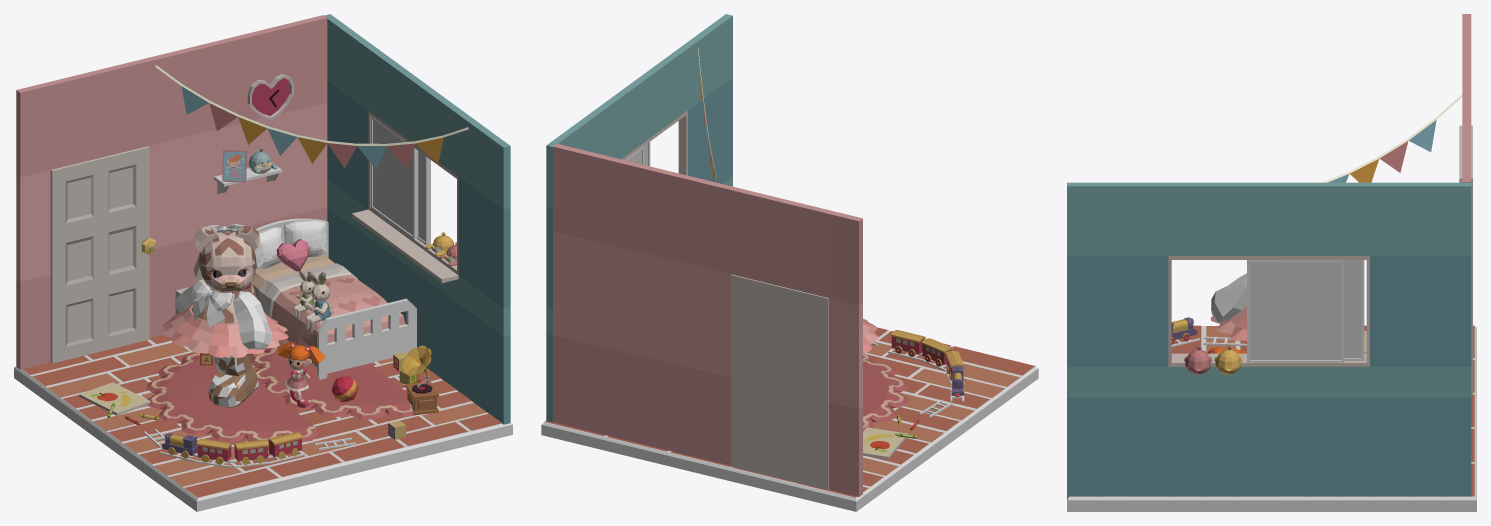
Rendered from 0009_toyStory.fbx.
3 views of the same model, side by side, from view 1: azimuth 30°, elevation 25°; view 2: azimuth 150°, elevation 25°; view 3: azimuth 270°, elevation 25° (orthographic). The views are drawn at different scales.
Parts seen in each view (by area): view 1: wall, wall2, door, plateUp, rug (×2), plateBase, frame (×4), bed_main, body (×2), garand, glass (×2), skirt (+15 smaller); view 2: wall, door, wall2, plateBase, plateUp, rug, drawing, Toybox_sub_Red; view 3: wall2, glass (×2), plateBase, plateUp, frame (×2), garand, wall, leftArm, door, skirt, Penguin2, Penguin3.
Part boxes in pixels (bbox=[...]): wall: bbox=[16, 15, 327, 369]; wall2: bbox=[324, 14, 510, 424]; door: bbox=[50, 146, 155, 363]; plateUp: bbox=[22, 335, 501, 497]; rug (×2): bbox=[146, 341, 415, 443]; plateBase: bbox=[14, 339, 512, 511]; frame (×4): bbox=[222, 116, 430, 379]; bed_main: bbox=[252, 255, 405, 368]; body (×2): bbox=[191, 226, 259, 363]; garand: bbox=[155, 65, 468, 169]; glass (×2): bbox=[373, 120, 424, 241]; skirt: bbox=[162, 303, 288, 357]; wall: bbox=[553, 144, 862, 496]; door: bbox=[731, 274, 828, 490]; wall2: bbox=[546, 14, 732, 422]; plateBase: bbox=[541, 330, 1038, 511]; plateUp: bbox=[544, 327, 1034, 497]; rug: bbox=[863, 353, 909, 431]; drawing: bbox=[863, 427, 907, 459]; Toybox_sub_Red: bbox=[890, 330, 925, 354]; wall2: bbox=[1067, 182, 1471, 496]; glass (×2): bbox=[1249, 260, 1361, 359]; plateBase: bbox=[1067, 326, 1476, 511]; plateUp: bbox=[1070, 325, 1474, 496]; frame (×2): bbox=[1247, 260, 1364, 362]; garand: bbox=[1322, 94, 1462, 182]; wall: bbox=[1462, 14, 1471, 182]; leftArm: bbox=[1211, 273, 1246, 321]; door: bbox=[1459, 125, 1472, 394]; skirt: bbox=[1210, 306, 1246, 340]; Penguin2: bbox=[1214, 345, 1242, 374]; Penguin3: bbox=[1184, 345, 1212, 374].
Size of the model in its own units: 8.46 by 7.09 by 8.11.
